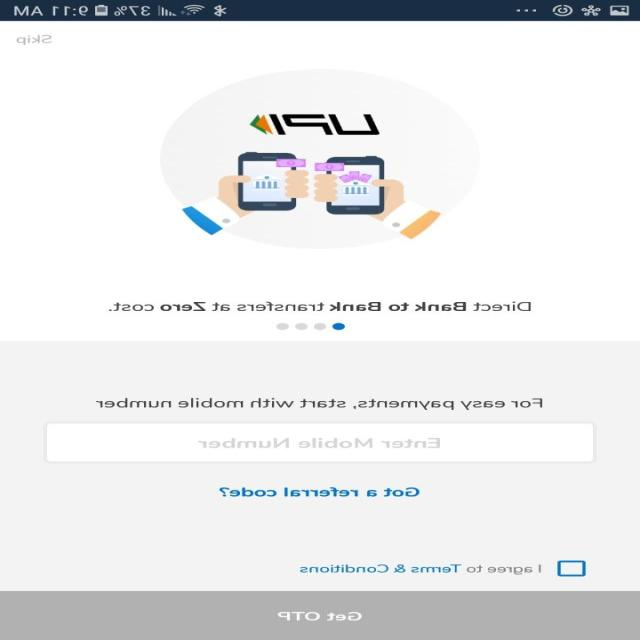EditText: (45, 422, 598, 464)
Image: (159, 68, 481, 250)
Text: (96, 398, 542, 410), (108, 301, 530, 311), (198, 437, 441, 448), (300, 564, 542, 574), (220, 486, 420, 496), (16, 34, 54, 45)
TextButton: (1, 590, 640, 640)
